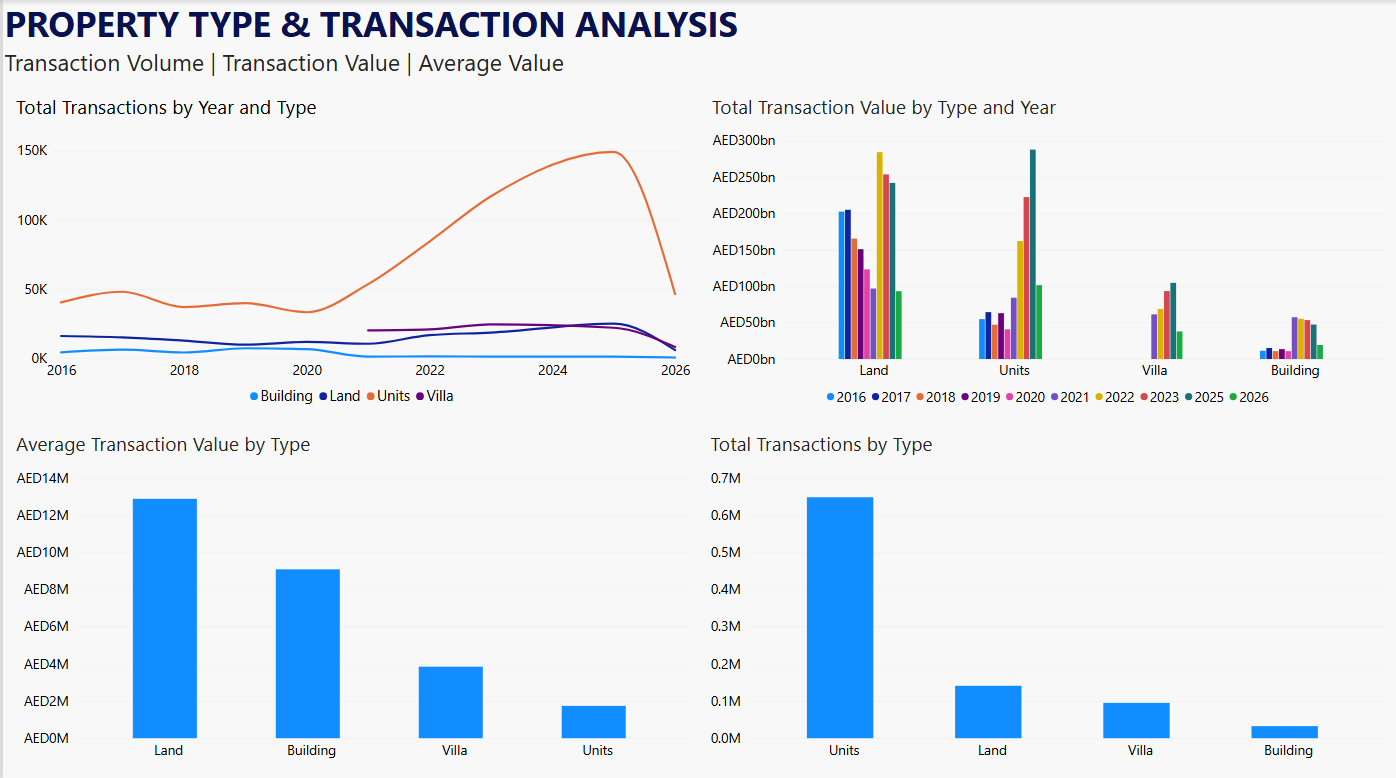

The dashboard page shown, as its layout file describes it:
{"tool":"powerbi","page":{"name":"Page 2","canvas":[1920,1080],"ordinal":1},"visuals":[{"type":"lineChart","fields":{"Category":["Dubai_Real_Estate.Year"],"Series":["Dubai_Real_Estate.Type"],"Y":["Dubai_Real_Estate.Total Transactions"]},"box":[2.1,115.7,960.9,464.9],"z":0},{"type":"clusteredColumnChart","fields":{"Category":["Dubai_Real_Estate.Type"],"Y":["Dubai_Real_Estate.Total Transaction Value"],"Series":["Dubai_Real_Estate.Year"]},"box":[960.9,115.7,960.9,464.9],"z":1000},{"type":"clusteredColumnChart","fields":{"Category":["Dubai_Real_Estate.Type"],"Y":["Dubai_Real_Estate.Average Transaction Value"]},"box":[2.1,580.6,960.9,487.7],"z":2000},{"type":"clusteredColumnChart","fields":{"Category":["Dubai_Real_Estate.Type"],"Y":["Dubai_Real_Estate.Total Transactions"]},"box":[958.8,580.6,960.9,487.7],"z":3000},{"type":"textbox","box":[2.1,0,1018.7,115.7],"z":4000}]}

Visuals, with their boxes in screenshot pixels (x1, y1, x2, y2), scaled from the page's 1920x1080 canvas onto the 1396x778 screenshot:
lineChart - Dubai_Real_Estate.Year x Dubai_Real_Estate.Type: [2,83,700,418]
clusteredColumnChart - Dubai_Real_Estate.Type x Dubai_Real_Estate.Total Transaction Value: [699,83,1395,418]
clusteredColumnChart - Dubai_Real_Estate.Type x Dubai_Real_Estate.Average Transaction Value: [2,418,700,770]
clusteredColumnChart - Dubai_Real_Estate.Type x Dubai_Real_Estate.Total Transactions: [697,418,1395,770]
textbox: [2,0,742,83]
